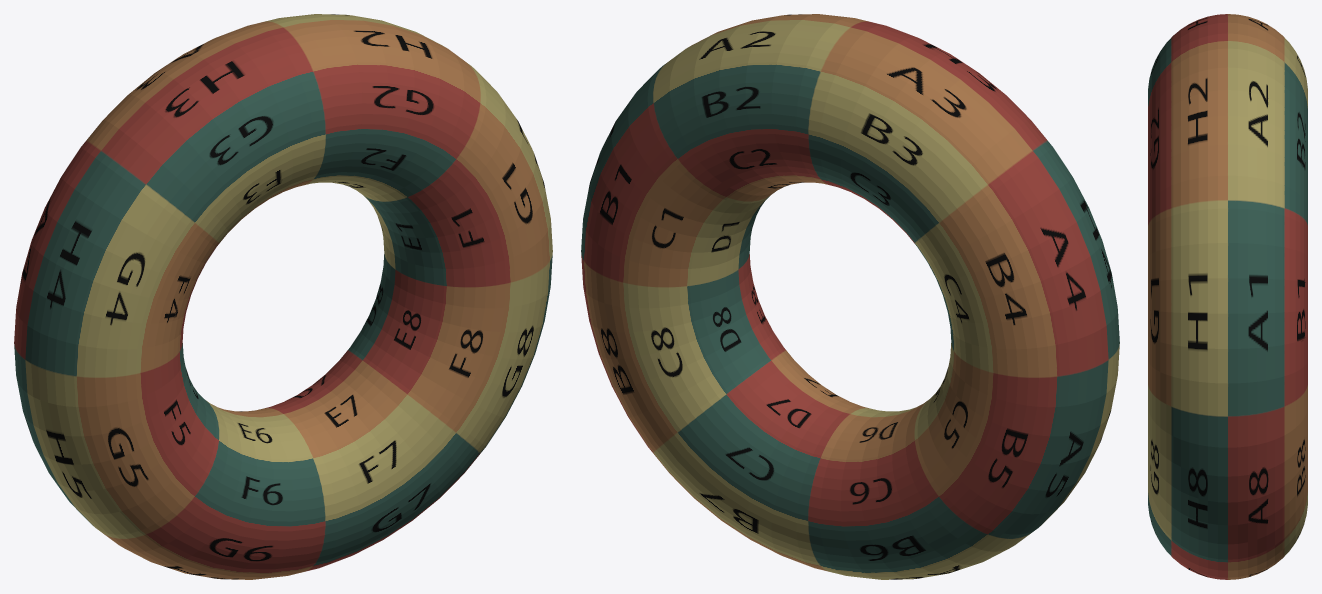
The model's file is texture_torus_R22_r29.glb.
3 renders of one model, left to right at view 1: azimuth 30°, elevation 25°; view 2: azimuth 150°, elevation 25°; view 3: azimuth 270°, elevation 25°, orthographic. The views are drawn at different scales.
Parts seen in each view (by area): view 1: world; view 2: world; view 3: world.
Part boxes in pixels (bbox=[...]): world: bbox=[14, 14, 552, 579]; world: bbox=[581, 14, 1119, 579]; world: bbox=[1148, 14, 1307, 579].
Bounding box in the file's own units: 34.4 × 34.33 × 9.71.
Materials: 1 (1 with a texture image).
